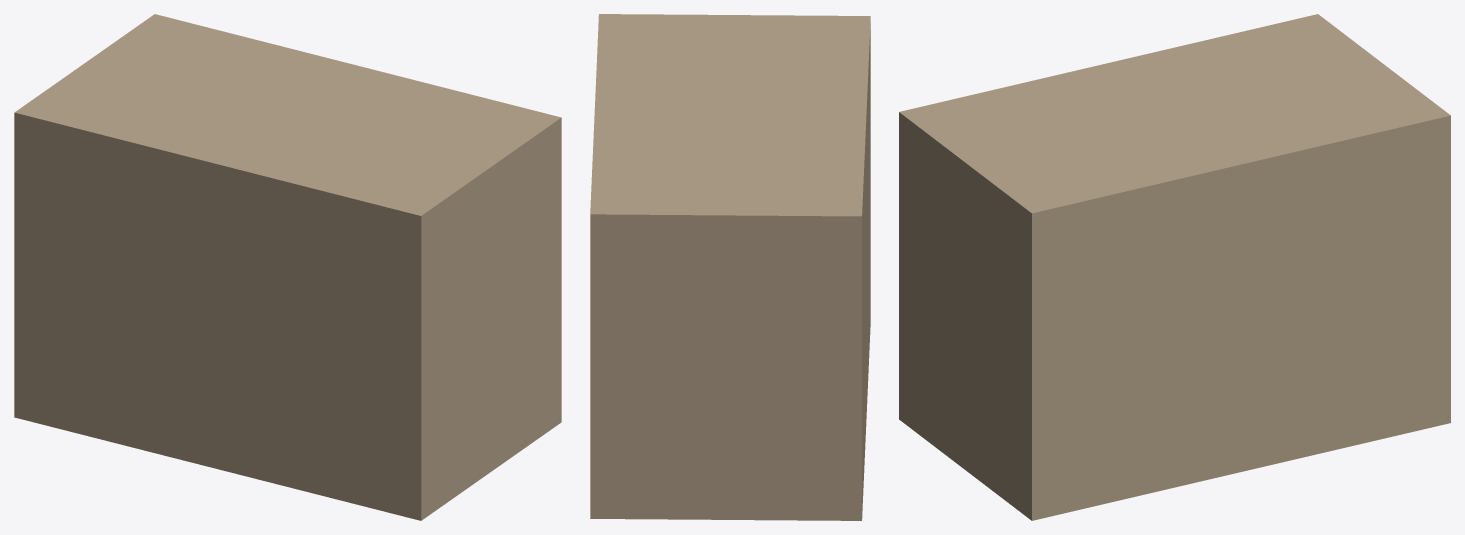
File: bld_109034850.dae
The picture shows the model from 3 angles, left to right: view 1: azimuth 30°, elevation 25°; view 2: azimuth 150°, elevation 25°; view 3: azimuth 270°, elevation 25°; orthographic projection.
Parts seen in each view (by area): view 1: bld_109034850; view 2: bld_109034850; view 3: bld_109034850.
Boxes of the visible parts, <box> form: bld_109034850: <box>14,14,561,520</box>; bld_109034850: <box>590,14,870,520</box>; bld_109034850: <box>899,14,1450,520</box>.
Bounding box in the file's own units: 11.13 × 13.02 × 8.
